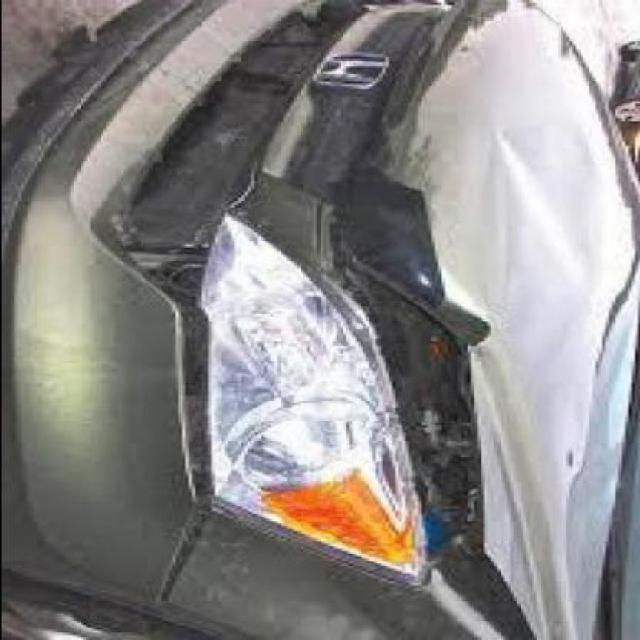damage: (302, 128, 542, 640)
